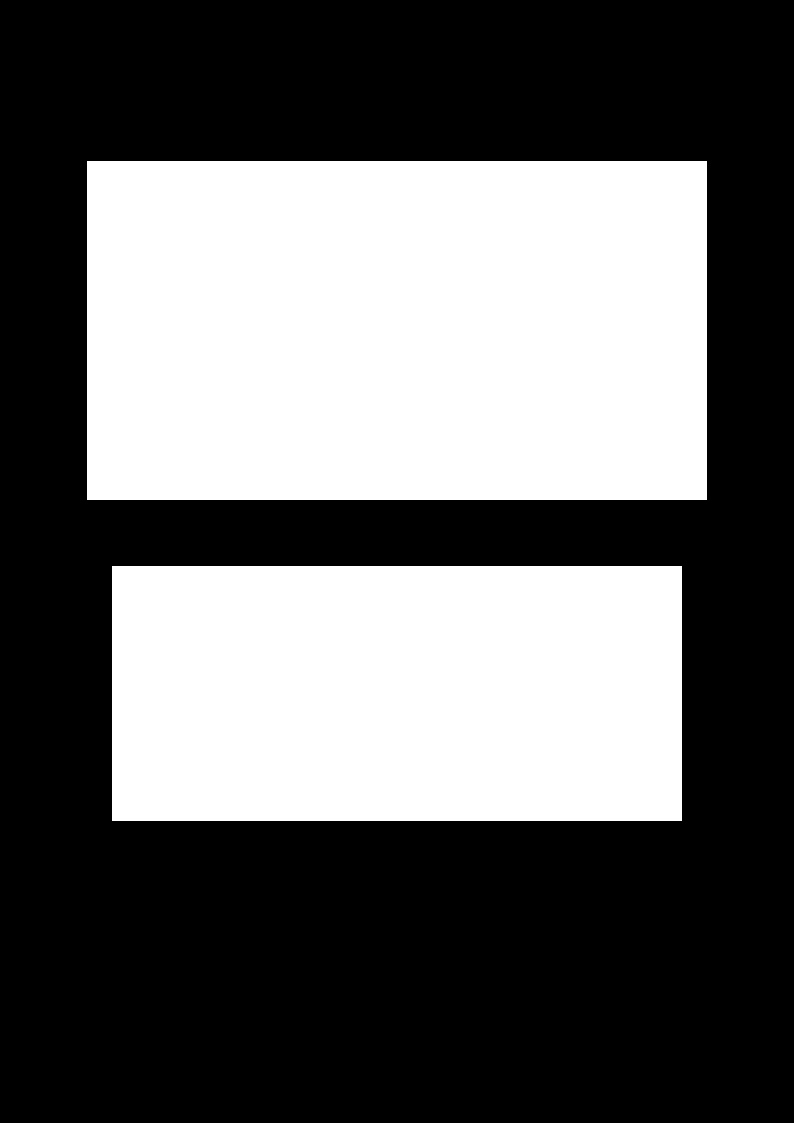table: (87, 161, 706, 499), (112, 566, 681, 820)
